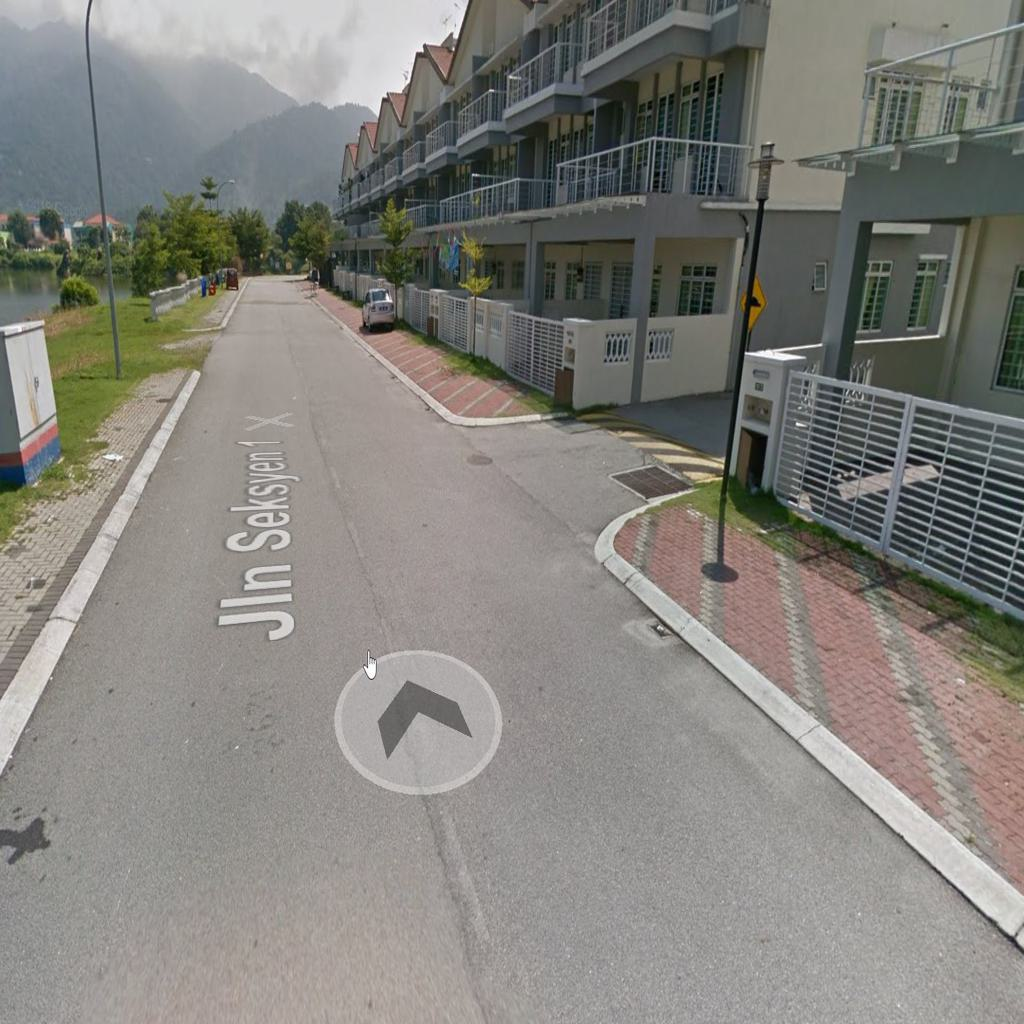Junction: (427, 364, 734, 590)
